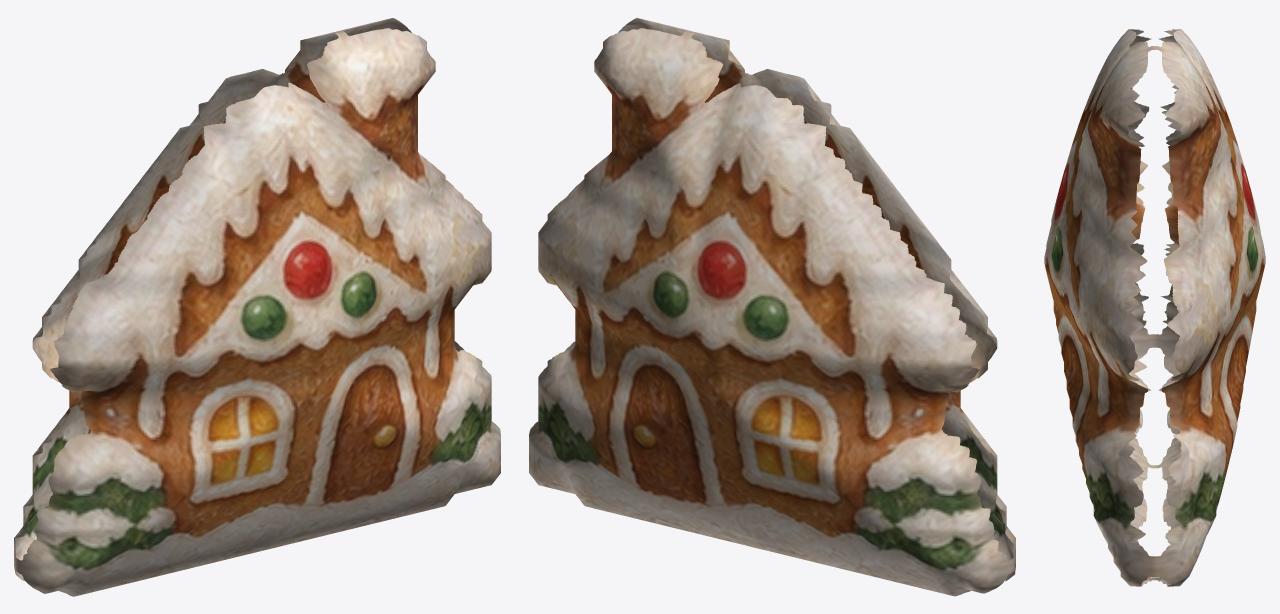
File: Item_gingerbread-house.glb
The picture shows the model from 3 angles, left to right: view 1: azimuth 30°, elevation 25°; view 2: azimuth 150°, elevation 25°; view 3: azimuth 270°, elevation 25°; orthographic projection.
Visible parts, largest first — view 1: Item_gingerbread-house carving; view 2: Item_gingerbread-house carving; view 3: Item_gingerbread-house carving.
Boxes of the visible parts, left/top/right/bottom form: Item_gingerbread-house carving: left=14, top=18, right=500, bottom=596; Item_gingerbread-house carving: left=529, top=18, right=1015, bottom=596; Item_gingerbread-house carving: left=1044, top=29, right=1265, bottom=586.
Bounding box in the file's own units: 0.5088 × 0.5029 × 0.2061.
1 material, 1 textured.
